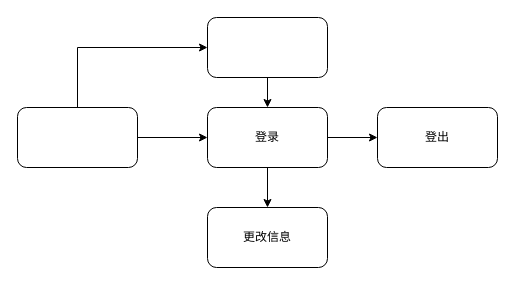
The diagram is 515 pixels wide and 285 high, and some of its shapes have lost their labels. The box of each missing label's shape, as (x1, y1, x2, y2) in pixels:
注册: (206, 16, 328, 78)
用户进入: (16, 106, 138, 168)
